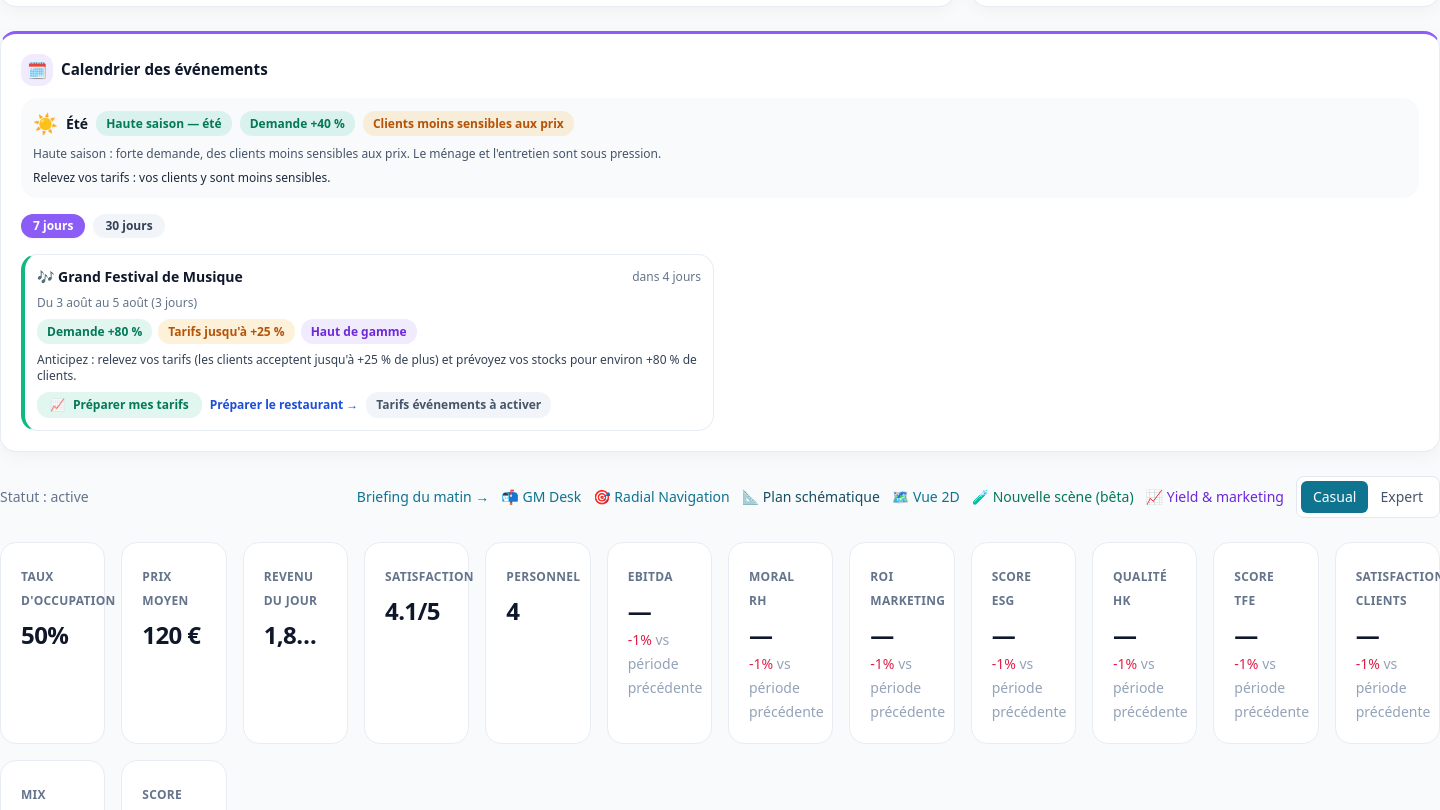
Test case: Dashboard / event calendar › preparing the prices opens the yield desk
(page scrolled)
Click the button with test id "calendar-prepare-music-festival": (119, 405) top-left (37, 392), bottom-right (202, 418)
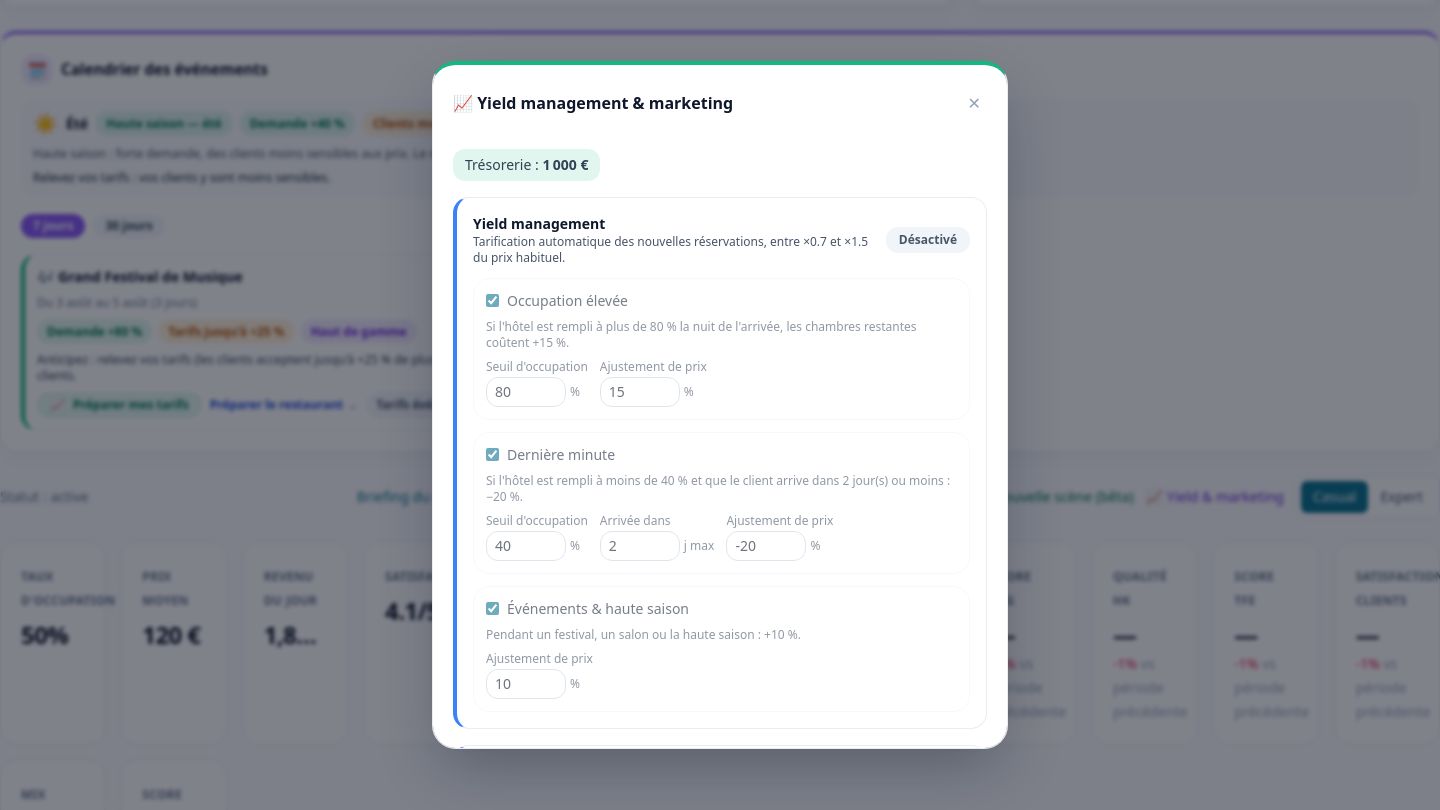
Expected: the dialog "Yield management & marketing" is shown
